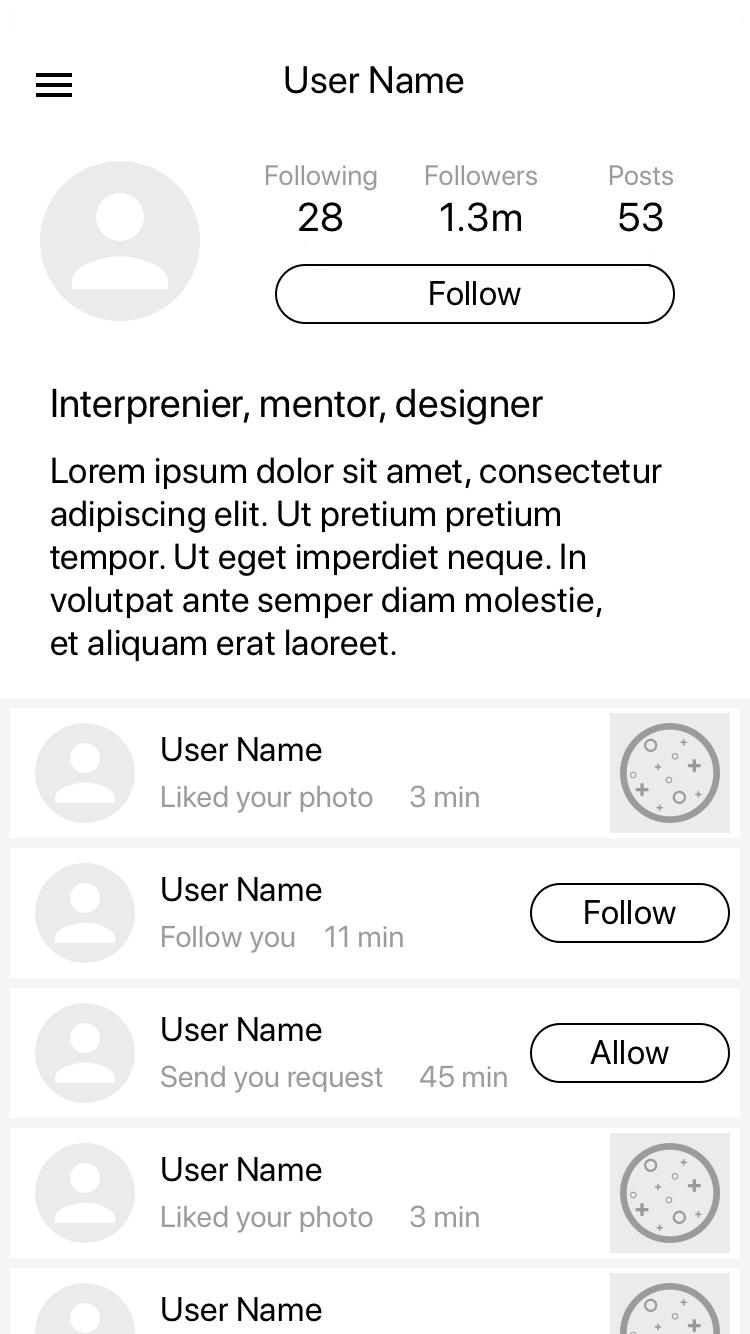Icon: (40, 162, 201, 321), (32, 1140, 136, 1243), (34, 862, 136, 963), (34, 1001, 135, 1102), (35, 723, 137, 823), (33, 1280, 136, 1333), (36, 73, 75, 99)
Image: (610, 1133, 730, 1252), (611, 714, 729, 829), (609, 1273, 729, 1334)
Text: (48, 454, 662, 659), (51, 388, 545, 425), (162, 1063, 385, 1096), (157, 1201, 374, 1233), (284, 63, 465, 98), (161, 785, 374, 813), (158, 1291, 324, 1325), (159, 1154, 324, 1184), (161, 875, 325, 905), (161, 1014, 322, 1044), (160, 921, 297, 954), (161, 736, 325, 763), (266, 163, 378, 194), (425, 163, 539, 187), (439, 202, 524, 233), (419, 1064, 508, 1088), (323, 924, 405, 949), (409, 785, 481, 808), (410, 1206, 480, 1229), (618, 200, 664, 234), (297, 200, 344, 233), (609, 164, 676, 187)
TextButton: (275, 264, 677, 325), (529, 882, 732, 945), (529, 1022, 732, 1084)
